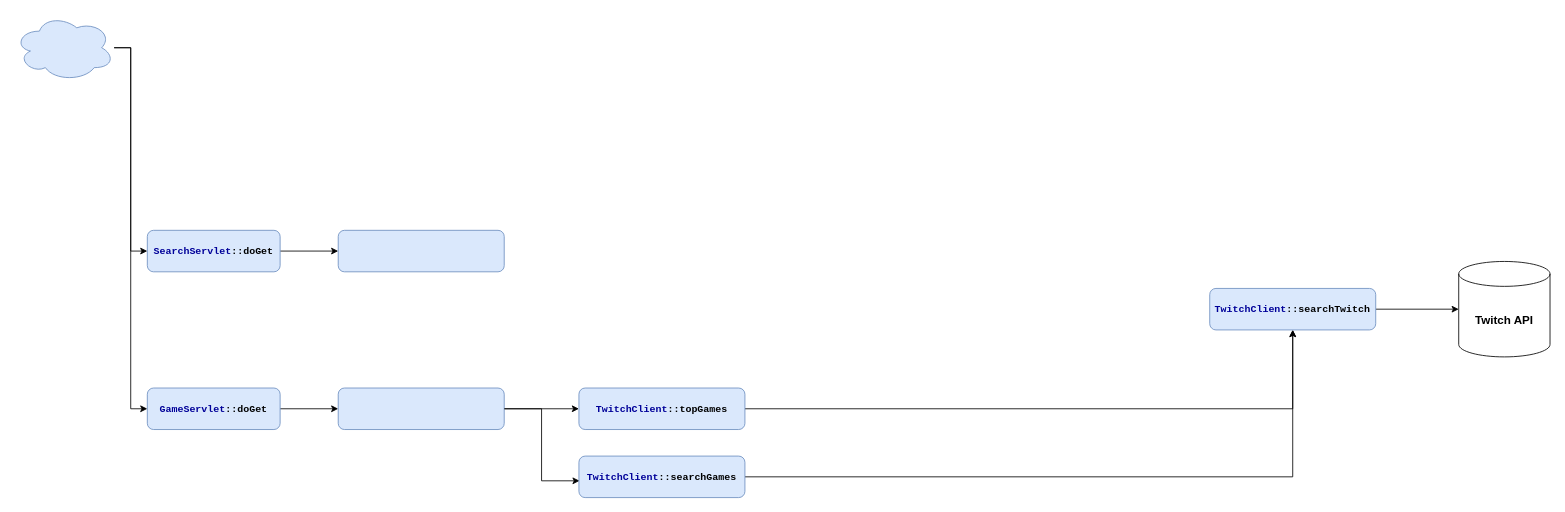
Image size: 1565x512. Some labels were removed from this diagram. The shapes that lost their labels are listed below. From the top down, each one's centre as x and y in pixels, then its label:
point (64, 47): Client
point (420, 250): TwitchClient ::searchItems
point (420, 408): TwitchClient ::searchGame
